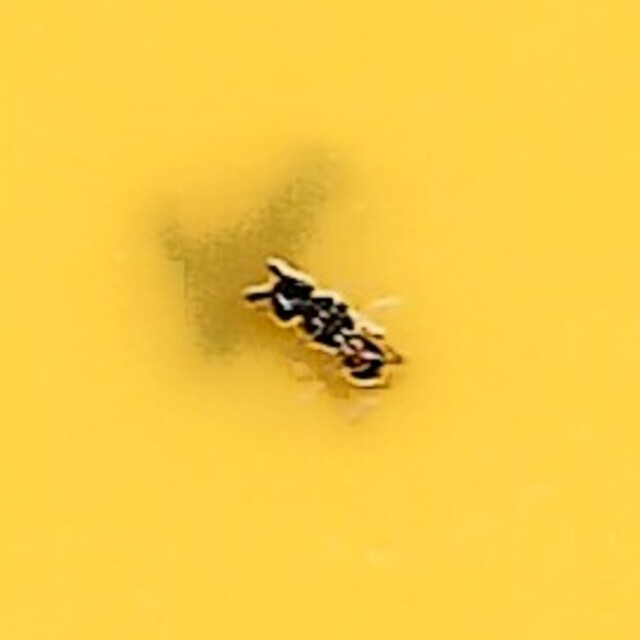Hymenoptera: (236, 246, 404, 394)
